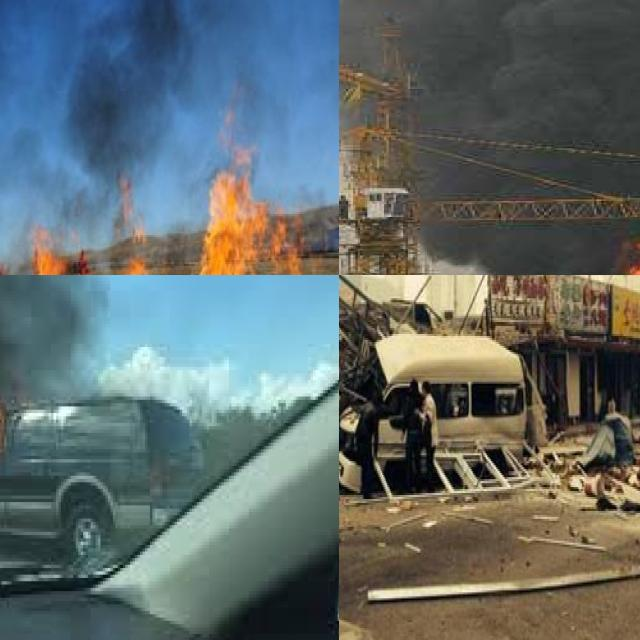fire: (0, 173, 339, 275)
smoke: (339, 0, 640, 275), (0, 0, 339, 191)
